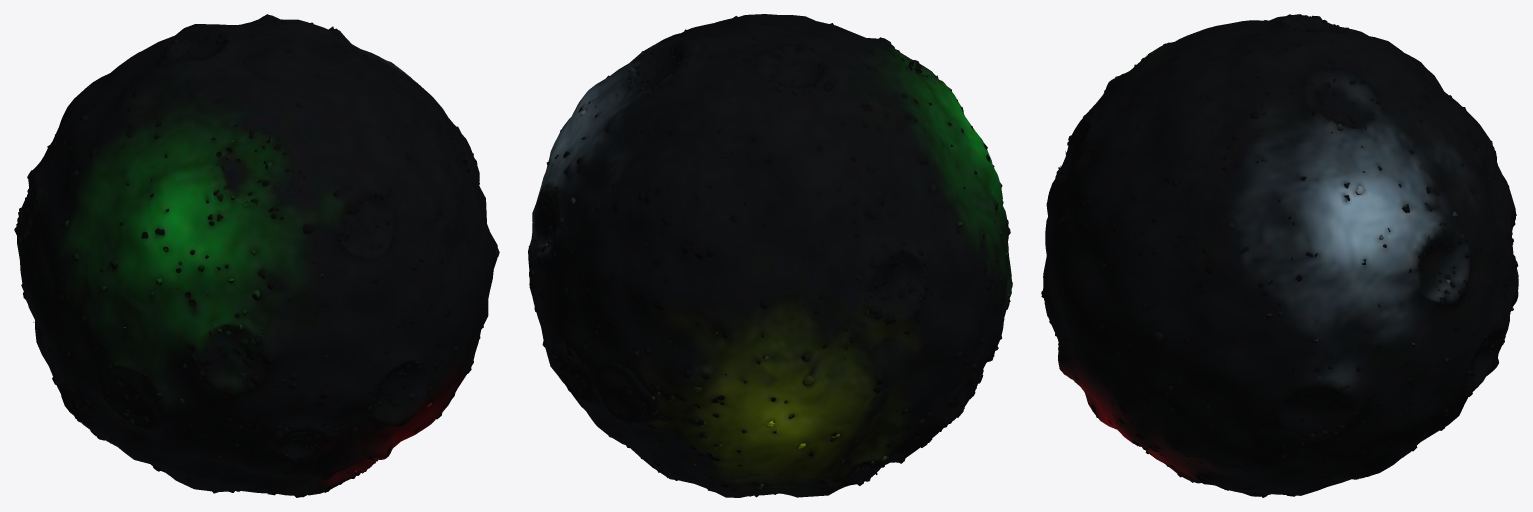
Rendered from planet.gltf.
The picture shows the model from 3 angles, left to right: view 1: azimuth 30°, elevation 25°; view 2: azimuth 150°, elevation 25°; view 3: azimuth 270°, elevation 25°; orthographic projection. The views are drawn at different scales.
Parts seen in each view (by area): view 1: planet; view 2: planet; view 3: planet.
Part boxes in pixels (bbox=[...]): planet: bbox=[14, 14, 499, 497]; planet: bbox=[528, 14, 1012, 497]; planet: bbox=[1041, 14, 1518, 497].
Size of the model in its own units: 19.95 by 20.05 by 19.76.
Materials: 1 (1 with a texture image).
